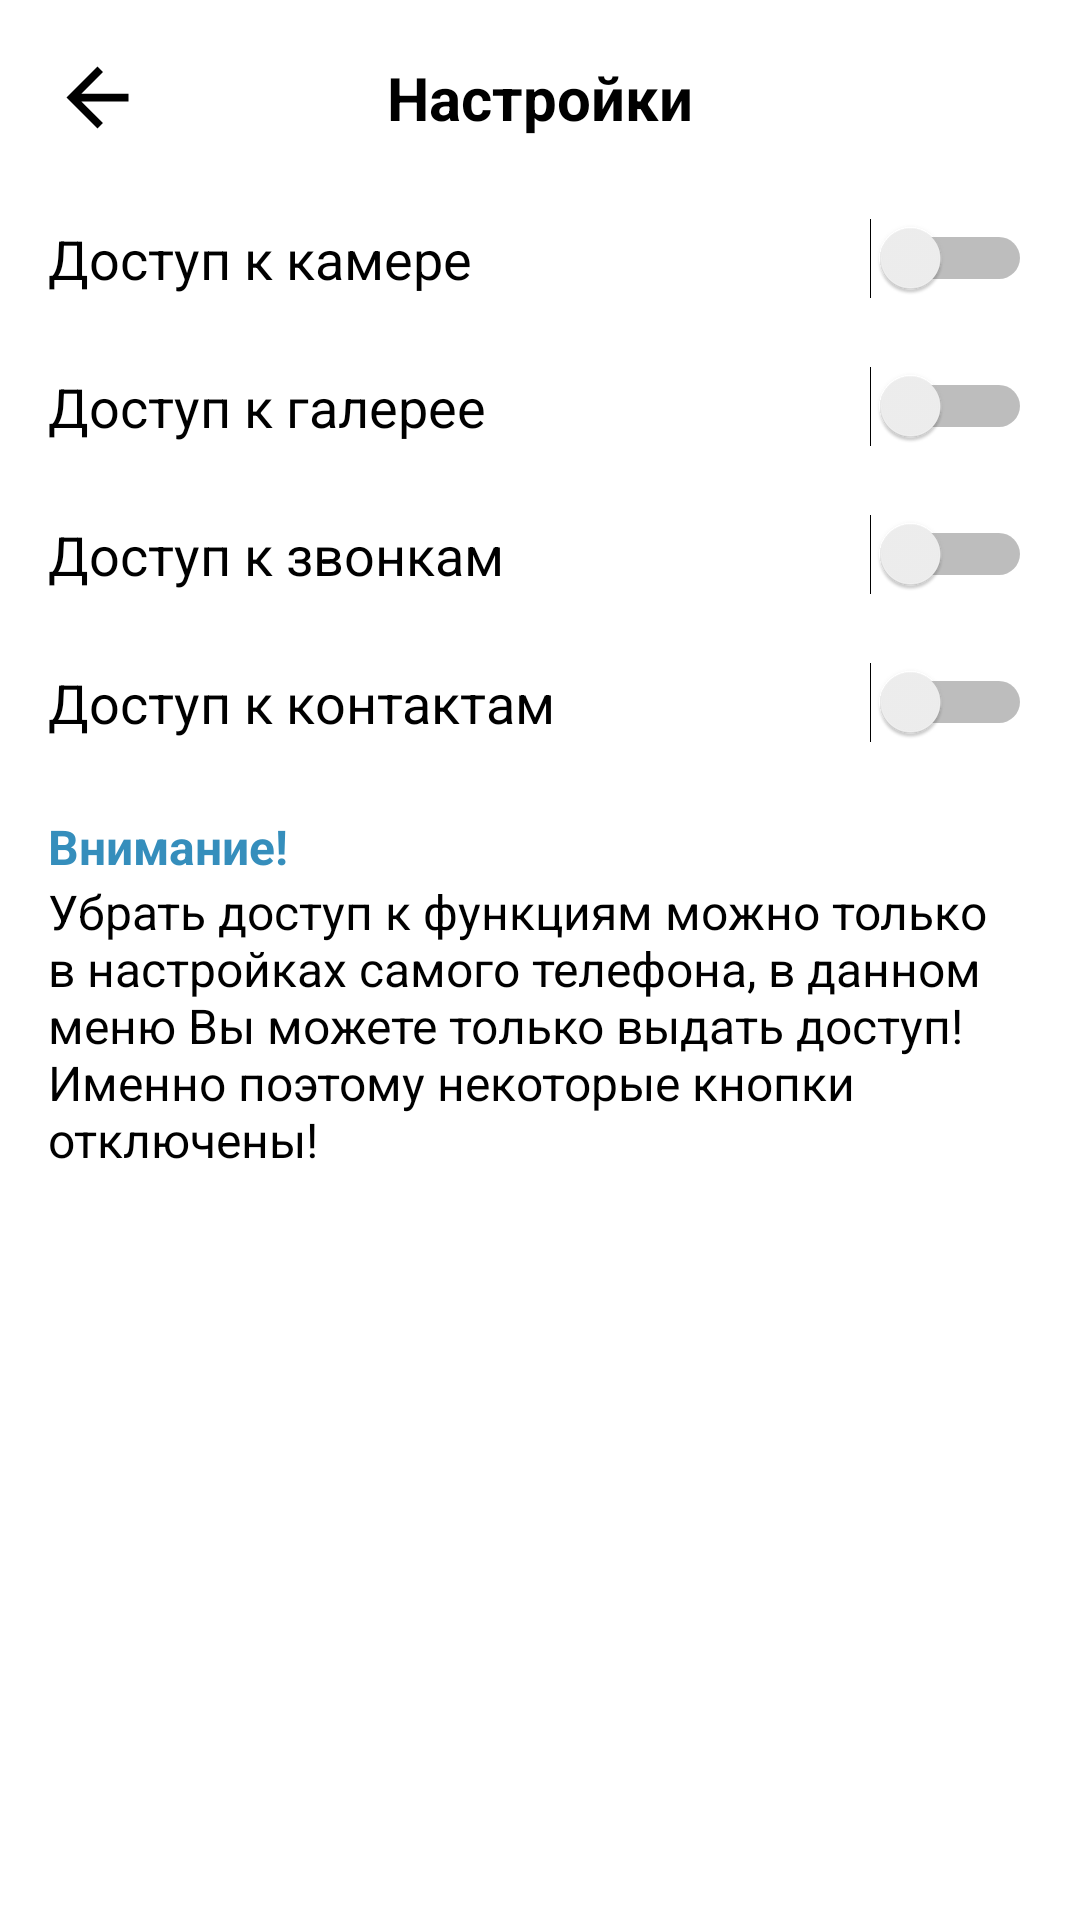

Icon click points for this 1080px×1920px phone screenshot, format [x,y]:
back: [97,97]
